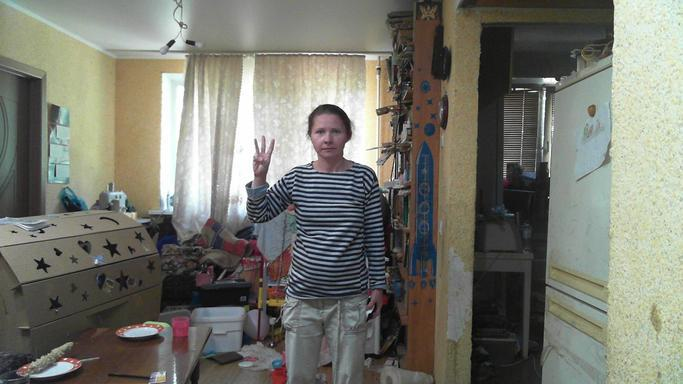three: (250, 134, 277, 180)
